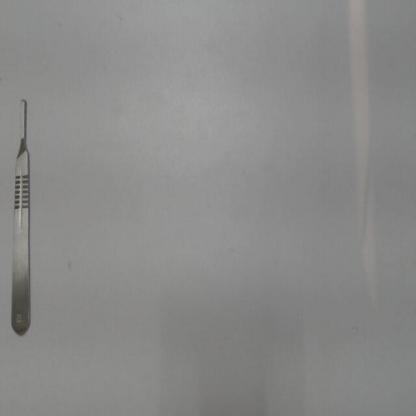No.4 BP Handle: (8, 94, 34, 338)
